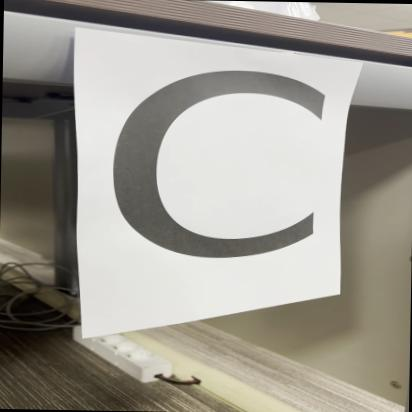seat: (71, 34, 344, 340)
